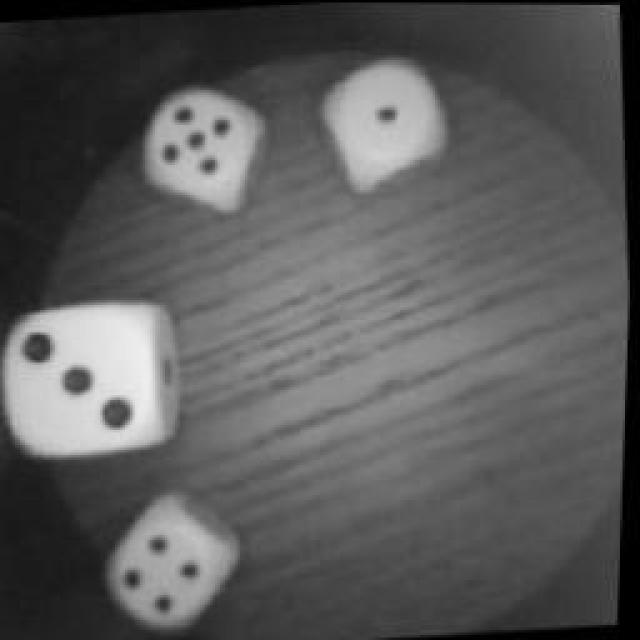dice_1: (319, 50, 449, 182)
dice_3: (2, 291, 188, 464)
dice_4: (105, 494, 247, 638)
dice_5: (132, 80, 270, 210)
